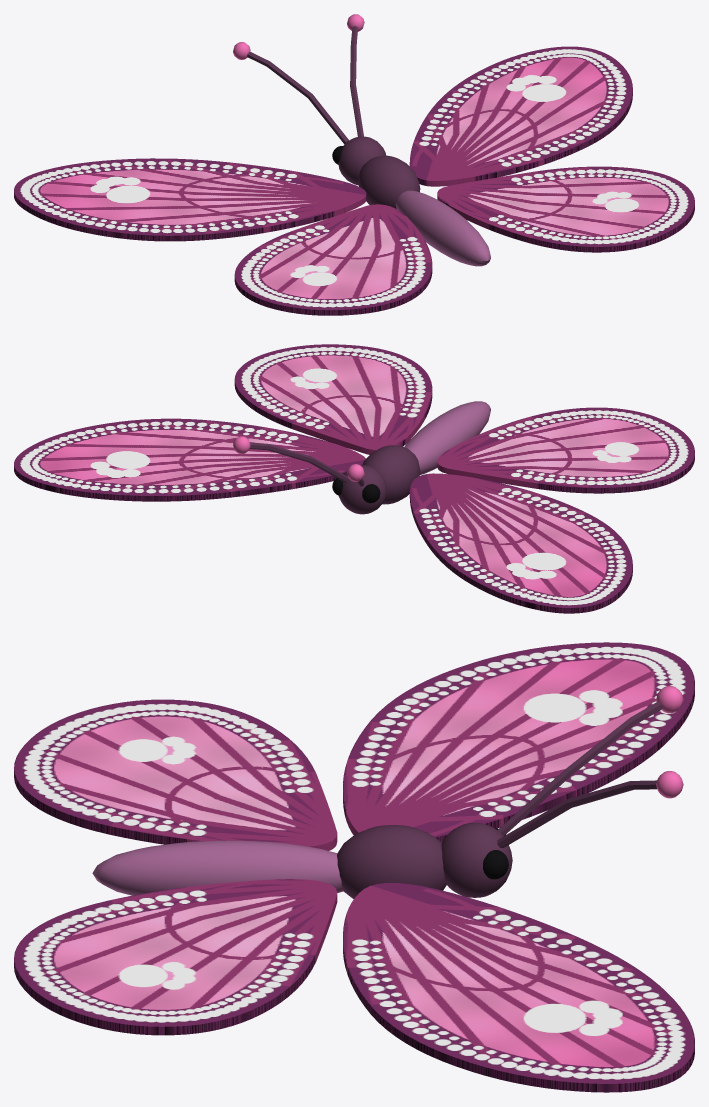
File: Butterfly_Kitty.fbx
The picture shows the model from 3 angles, top to bottom: view 1: azimuth 30°, elevation 25°; view 2: azimuth 150°, elevation 25°; view 3: azimuth 270°, elevation 25°; orthographic projection. The views are drawn at different scales.
Parts seen in each view (by area): view 1: WingL, WingR, Body; view 2: WingL, WingR, Body; view 3: WingR, WingL, Body.
Part boxes in pixels (x1,y1,x2,y2): WingL: (14, 158, 432, 315); WingR: (409, 46, 694, 252); Body: (233, 14, 490, 266); WingL: (409, 407, 694, 613); WingR: (14, 344, 432, 501); Body: (233, 401, 490, 514); WingR: (14, 879, 694, 1092); WingL: (14, 642, 694, 850); Body: (92, 686, 683, 899).
Size of the model in its own units: 0.6647 by 0.124 by 0.4333.
Materials: 1 (1 with a texture image).
